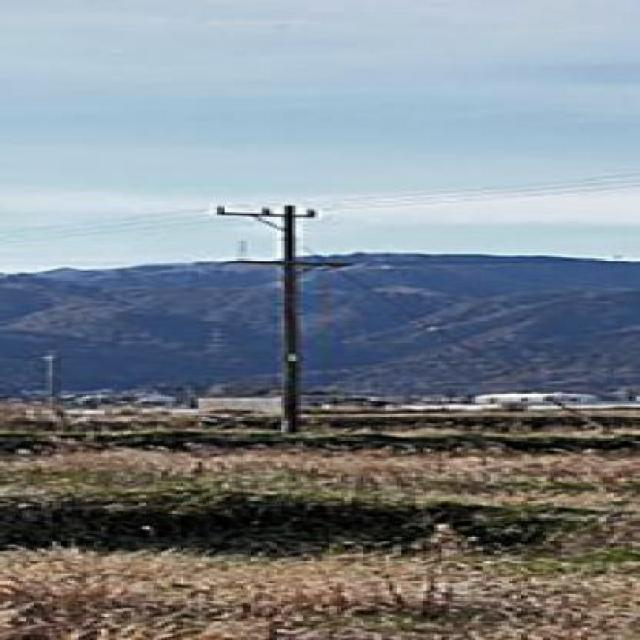crossarm: (218, 210, 315, 218), (227, 259, 355, 265), (252, 214, 284, 231)
pole: (282, 204, 300, 431)
wire: (315, 172, 638, 213)
